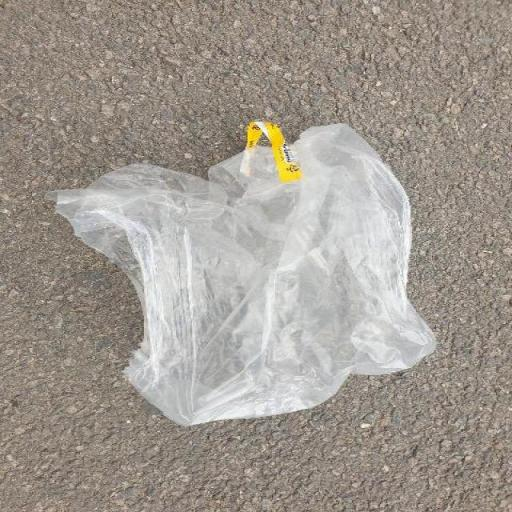plastic-bag: (44, 119, 446, 428)
